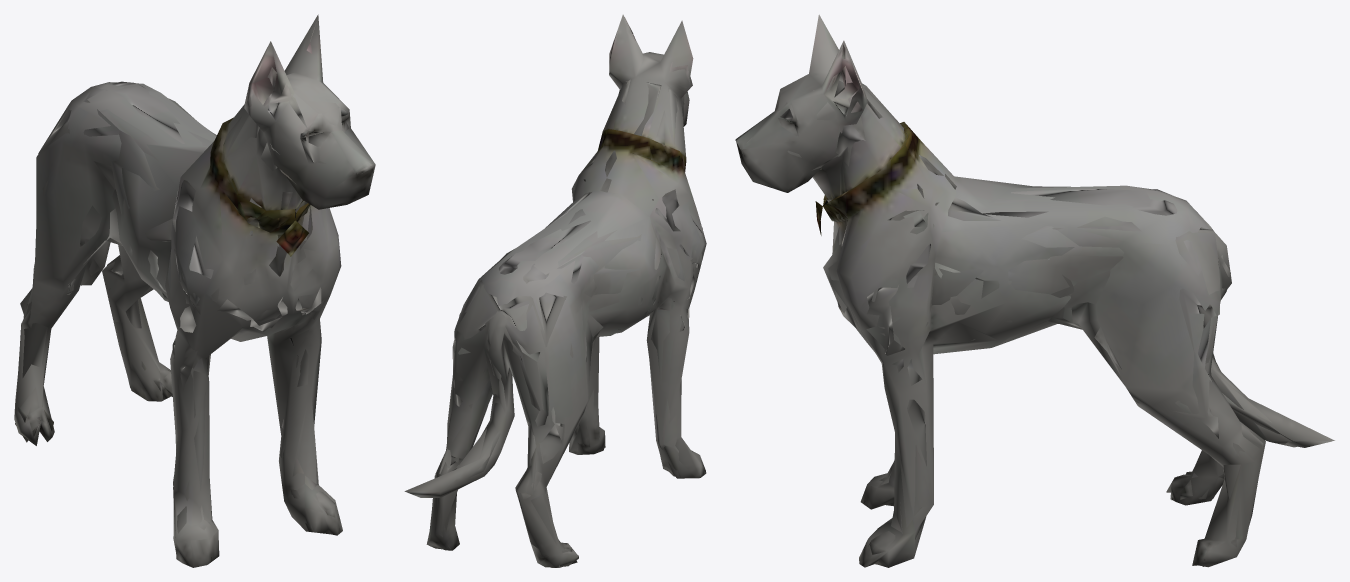
Rendered from detail_13_lo2.glb.
3 views of the same model, side by side, from view 1: azimuth 30°, elevation 25°; view 2: azimuth 150°, elevation 25°; view 3: azimuth 270°, elevation 25° (orthographic). The views are drawn at different scales.
Parts seen in each view (by area): view 1: Mesh_0.001; view 2: Mesh_0.001; view 3: Mesh_0.001.
Boxes of the visible parts, <box> form: Mesh_0.001: <box>14,14,375,567</box>; Mesh_0.001: <box>404,14,706,567</box>; Mesh_0.001: <box>735,14,1334,567</box>.
Size of the model in its own units: 0.314 by 0.9355 by 0.9948.
1 material, 1 textured.
